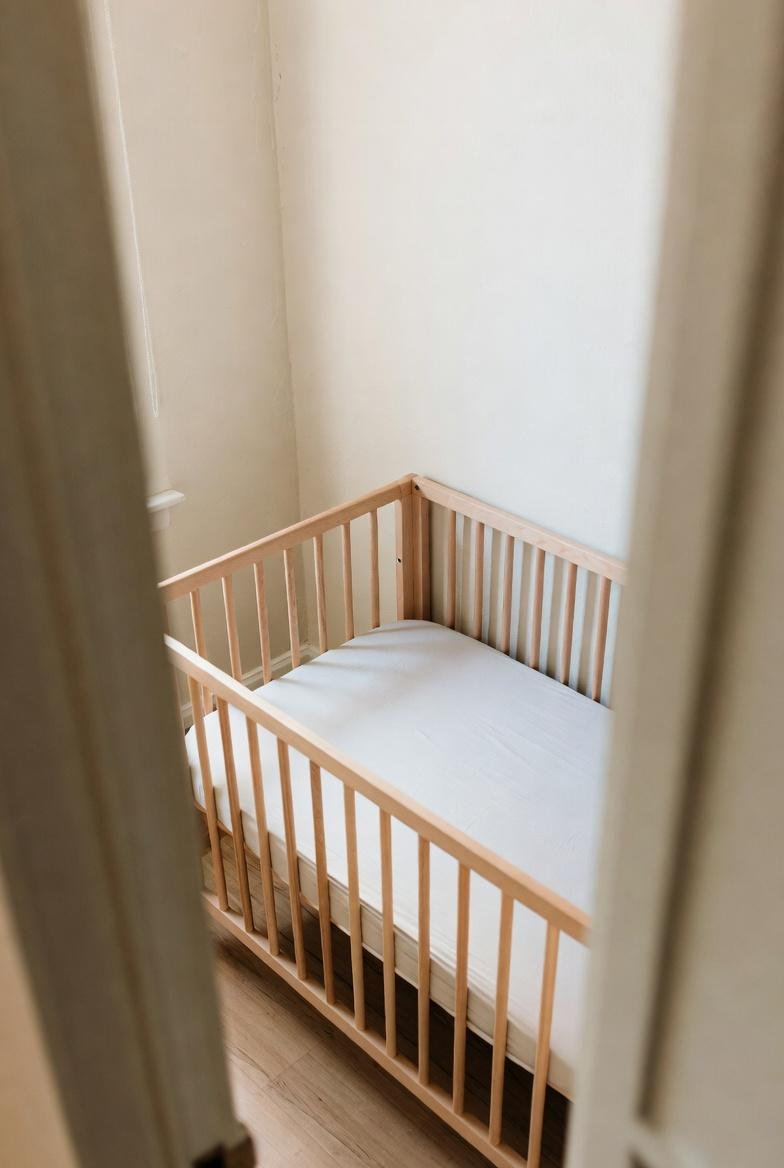crib: (161, 476, 624, 1168)
